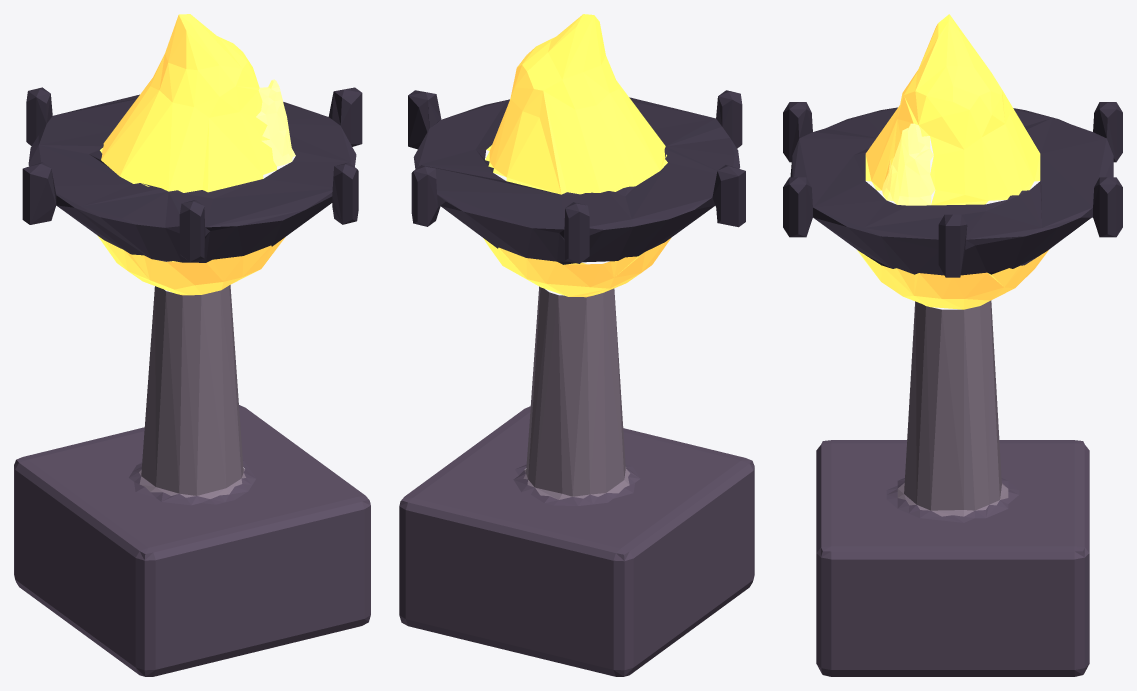
Rendered from signal_brazier.glb.
3 renders of one model, left to right at view 1: azimuth 30°, elevation 25°; view 2: azimuth 150°, elevation 25°; view 3: azimuth 270°, elevation 25°, orthographic.
Parts seen in each view (by area): view 1: signal_brazier; view 2: signal_brazier; view 3: signal_brazier.
Part boxes in pixels (x1,y1,x2,y2): signal_brazier: [14, 14, 370, 676]; signal_brazier: [399, 14, 754, 676]; signal_brazier: [783, 14, 1122, 676].
Size of the model in its own units: 1.08 by 1.85 by 0.946.
